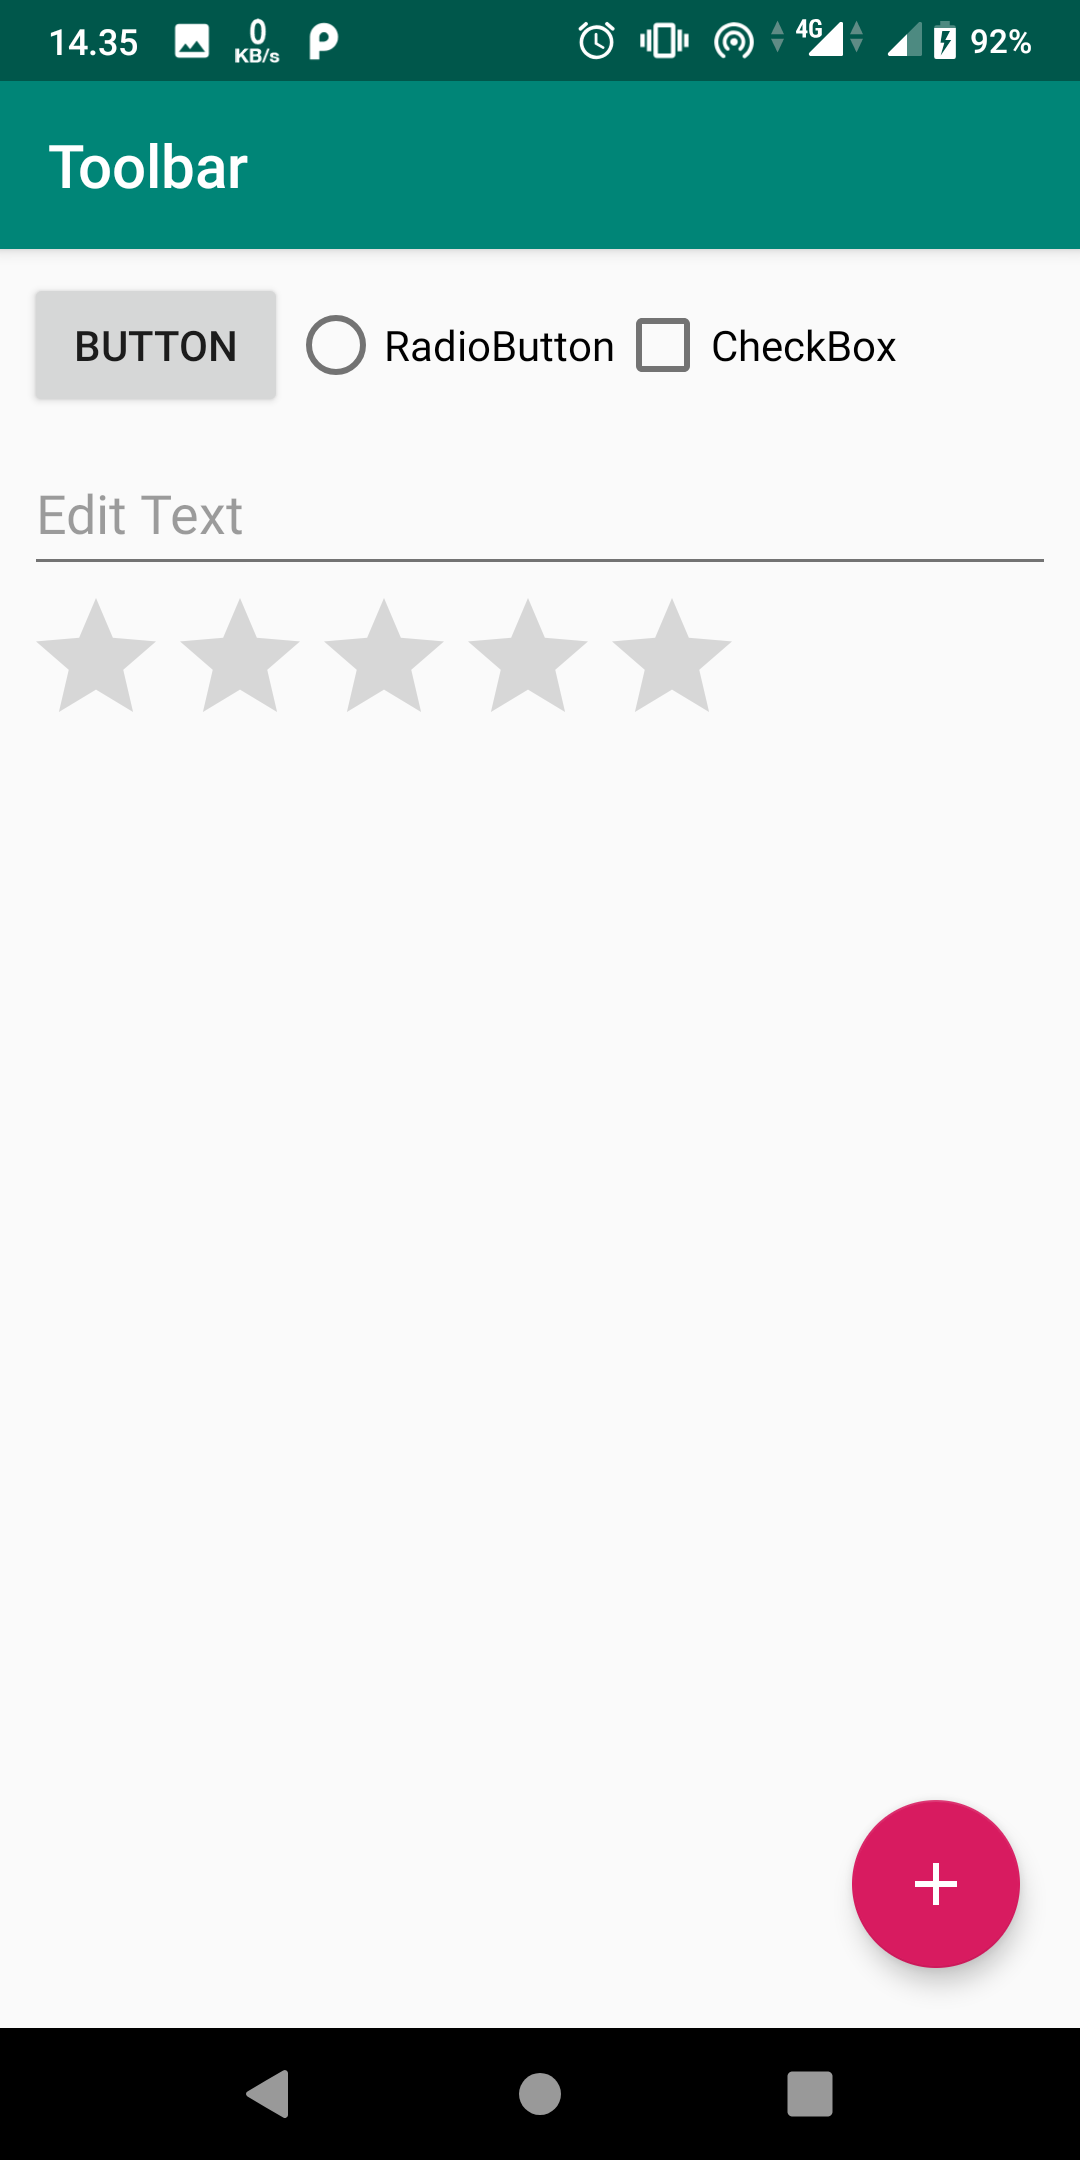button: (21, 280, 285, 415)
checkBox: (625, 306, 906, 383)
editText: (30, 484, 1065, 590)
floatingButton: (849, 1794, 1026, 1980)
radioButton: (302, 309, 620, 386)
ratingBar: (30, 585, 733, 725)
toolbar: (4, 83, 1080, 245)
